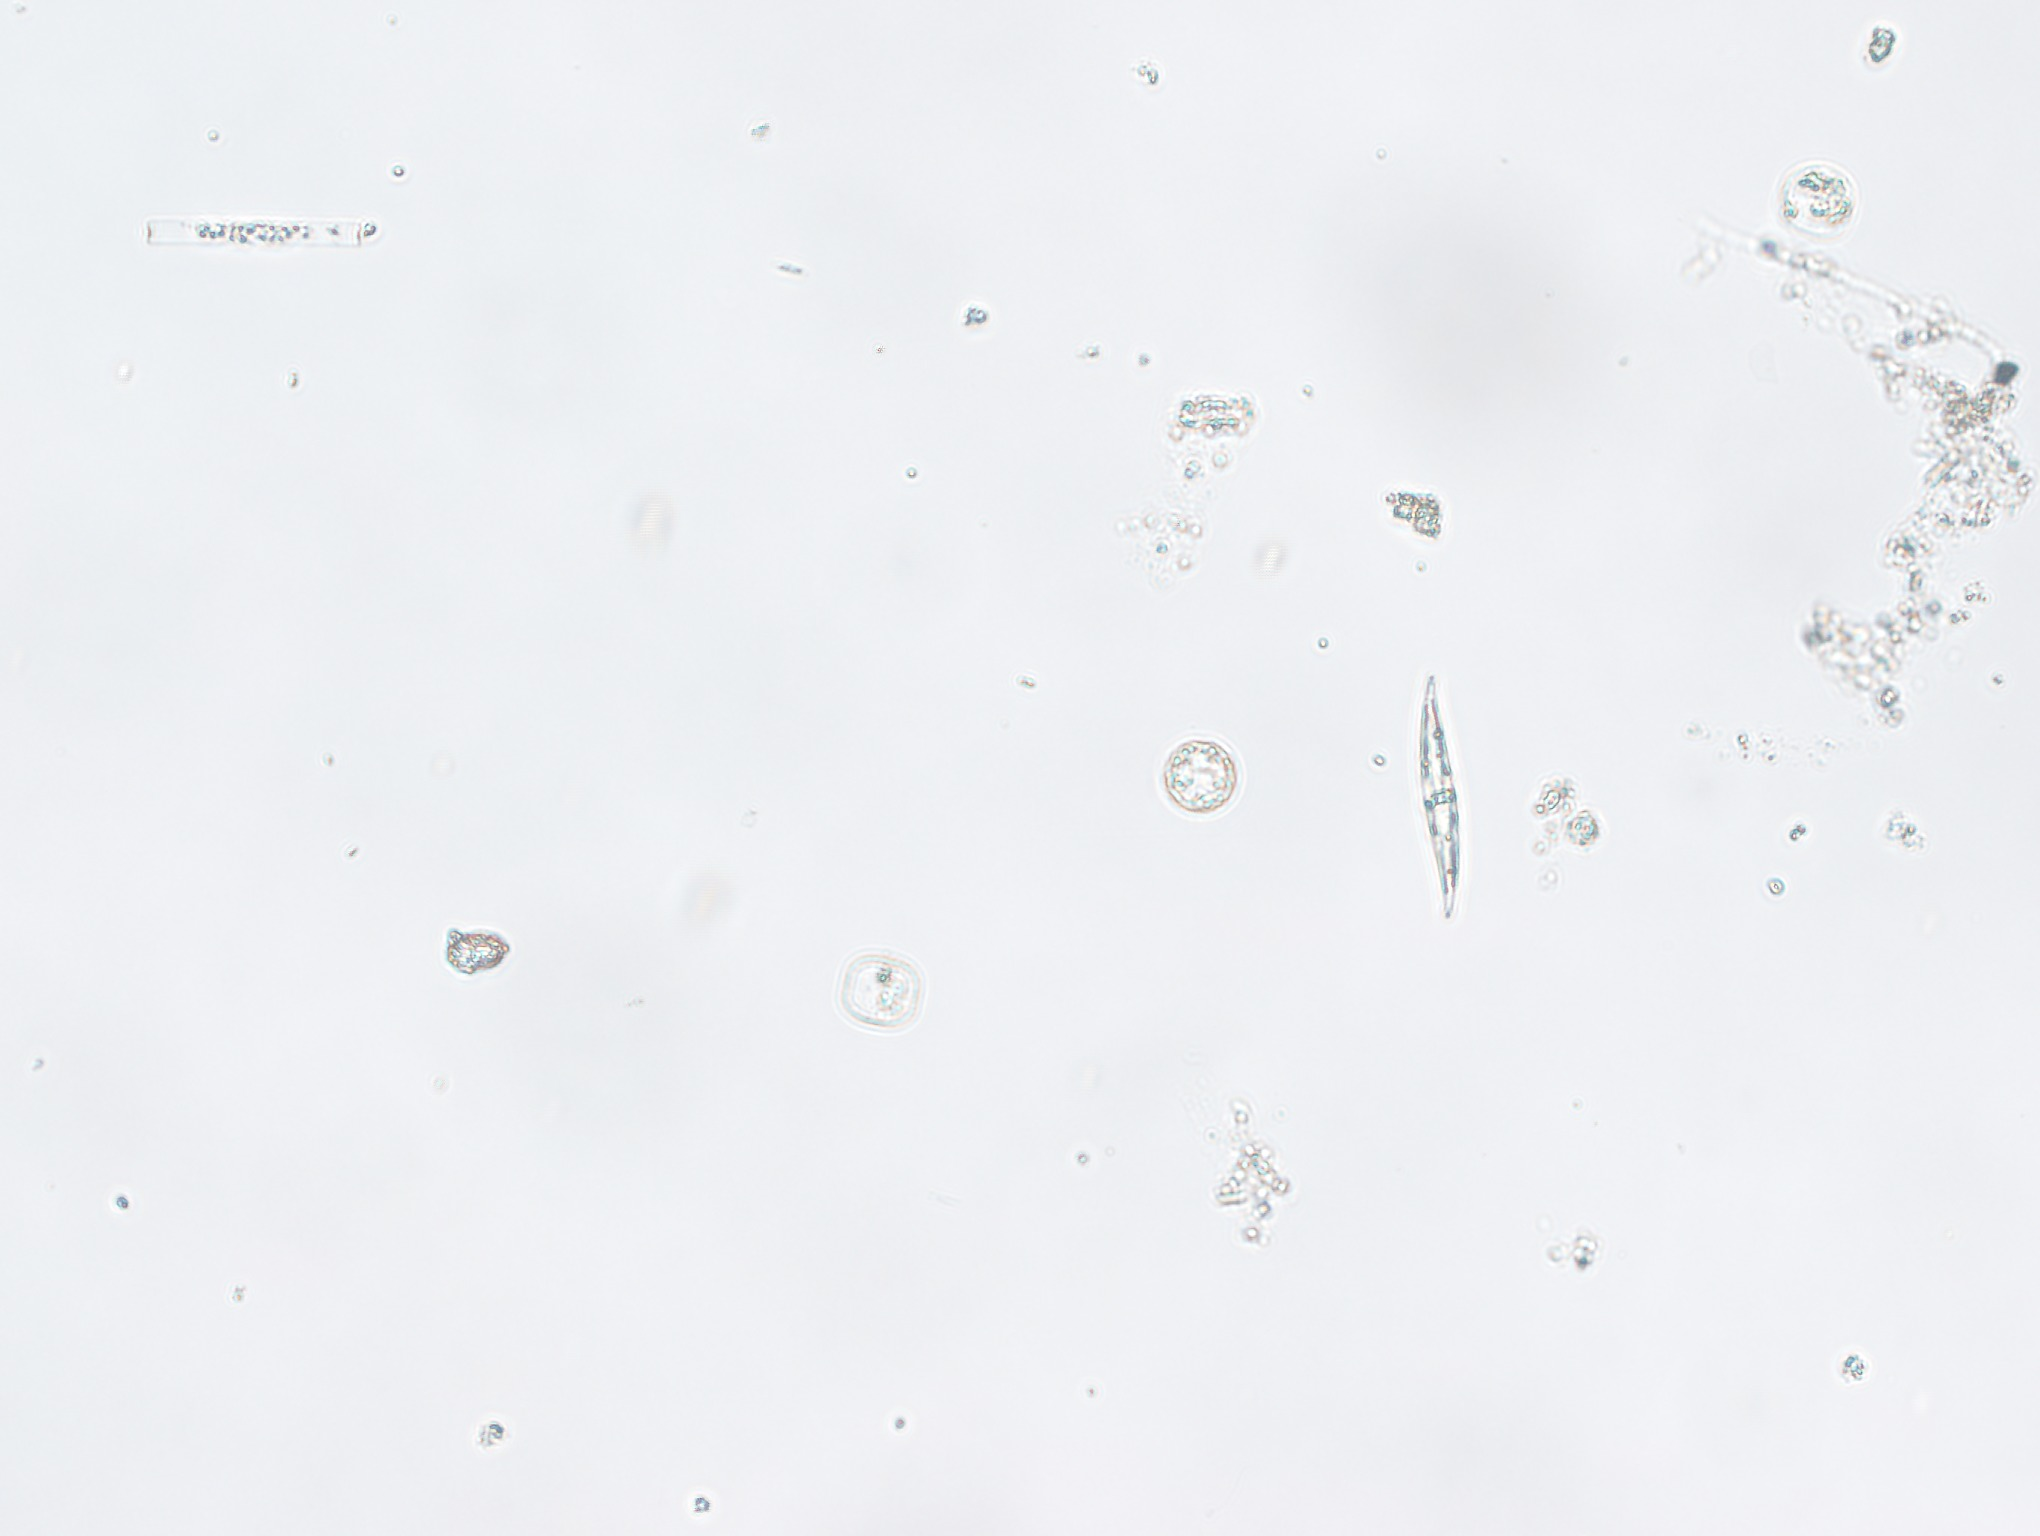pleurosigma pelagicum: (1390, 671, 1487, 929)
rhizosolenia: (127, 208, 384, 258)
